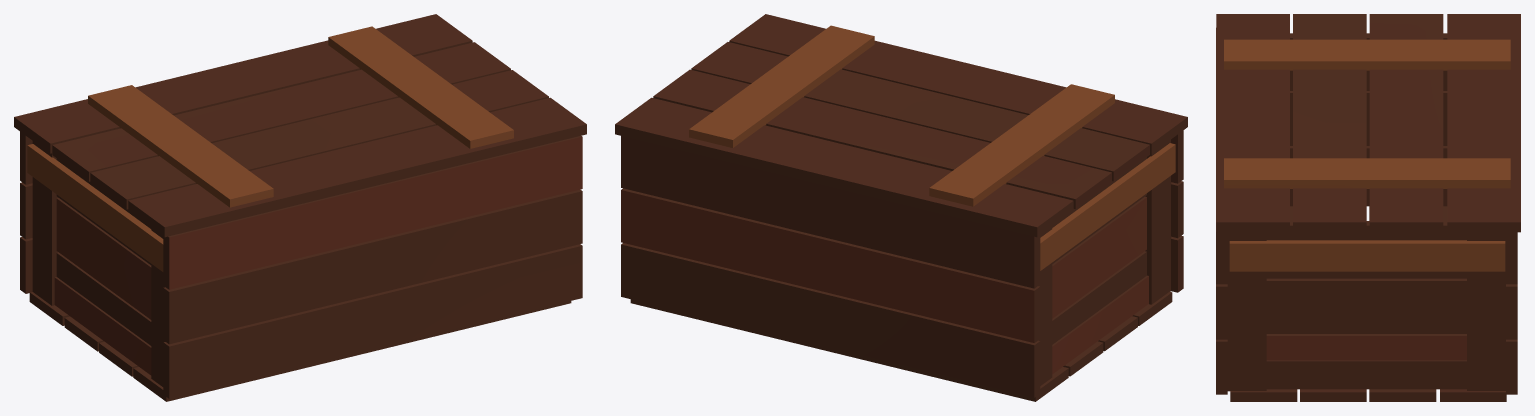
The picture shows the model from 3 angles, left to right: view 1: azimuth 30°, elevation 25°; view 2: azimuth 150°, elevation 25°; view 3: azimuth 270°, elevation 25°; orthographic projection.
Parts seen in each view (by area): view 1: Box; view 2: Box; view 3: Box.
Boxes of the visible parts, left/top/right/bottom form: Box: left=14, top=14, right=586, bottom=401; Box: left=615, top=14, right=1187, bottom=401; Box: left=1216, top=14, right=1520, bottom=401.
Bounding box in the file's own units: 1.25 × 0.5356 × 0.77.
